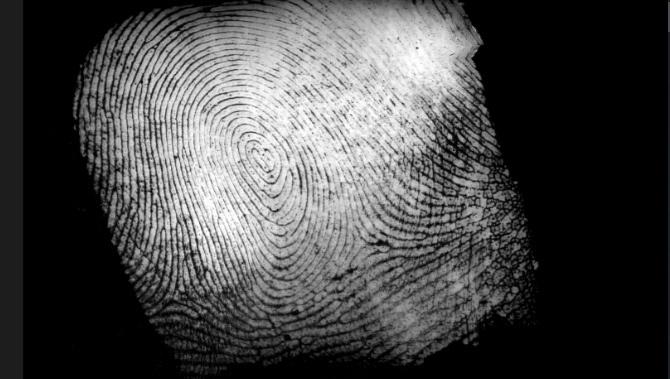nucelo: (238, 137, 285, 186)
verticilo: (152, 278, 188, 311), (360, 230, 396, 254)
